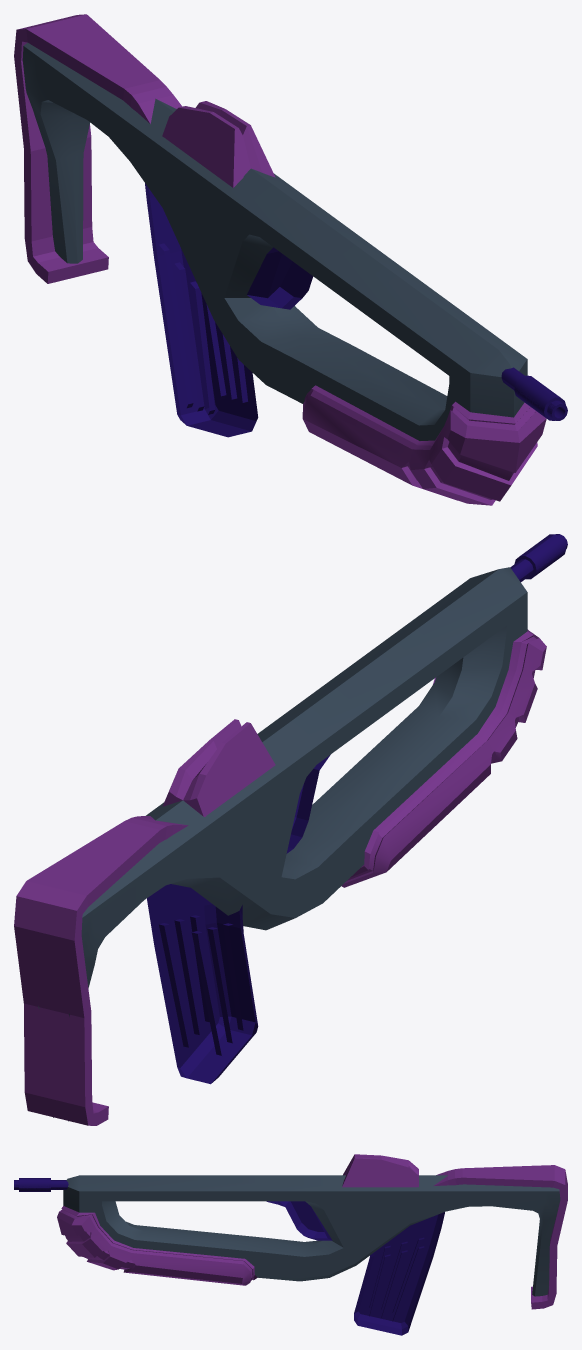
File: alienRifle 1.fbx
The picture shows the model from 3 angles, top to bottom: view 1: azimuth 30°, elevation 25°; view 2: azimuth 150°, elevation 25°; view 3: azimuth 270°, elevation 25°; orthographic projection. The views are drawn at different scales.
Parts seen in each view (by area): view 1: Cylinder.001; view 2: Cylinder.001; view 3: Cylinder.001.
Boxes of the visible parts, box(x1,y1,x2,y2) form: Cylinder.001: box(14, 14, 567, 505); Cylinder.001: box(14, 534, 567, 1125); Cylinder.001: box(14, 1154, 567, 1335).
Size of the model in its own units: 0.9145 by 3.07 by 8.76.
